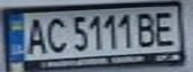1: (115, 10, 136, 48), (84, 11, 103, 51), (103, 11, 121, 50)
5: (66, 12, 87, 52)
A: (21, 15, 48, 55)
B: (133, 10, 160, 48)
C: (42, 15, 69, 54)
E: (151, 8, 178, 47)
